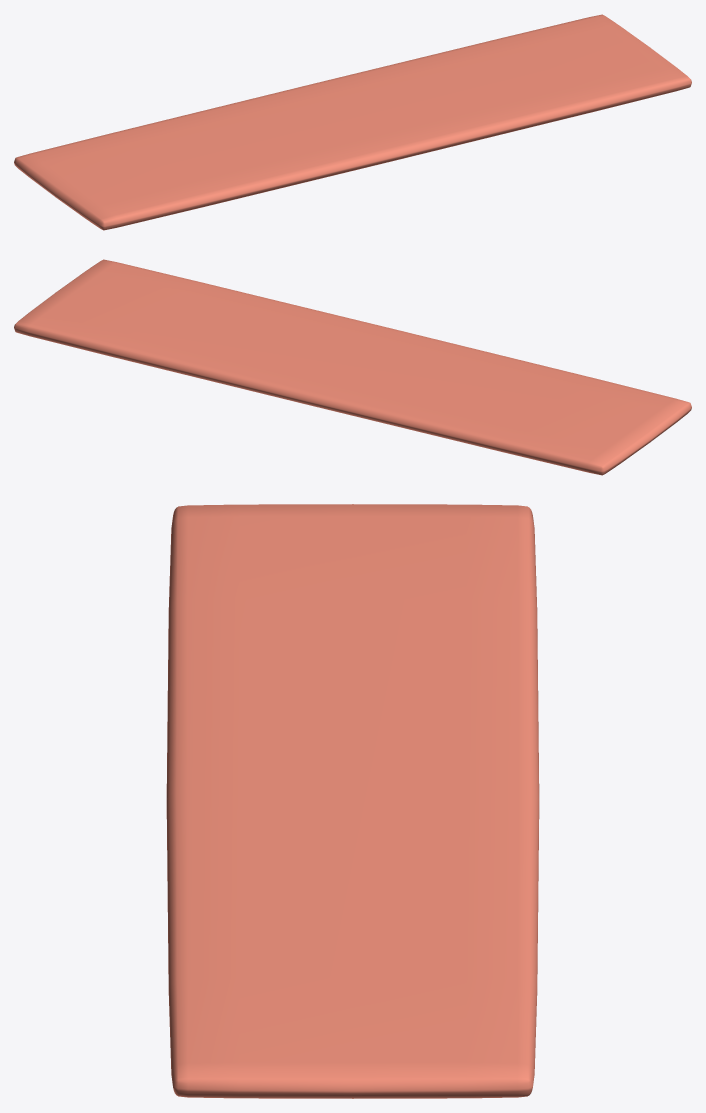
File: table_cover_b.glb
The picture shows the model from 3 angles, top to bottom: view 1: azimuth 30°, elevation 25°; view 2: azimuth 150°, elevation 25°; view 3: azimuth 270°, elevation 25°; orthographic projection. The views are drawn at different scales.
Visible parts, largest first — view 1: body; view 2: body; view 3: body.
Part boxes in pixels (bbox=[...]): body: bbox=[14, 14, 691, 230]; body: bbox=[14, 259, 691, 475]; body: bbox=[166, 504, 539, 1098].
Size of the model in its own units: 0.96 by 0.02 by 0.26.
